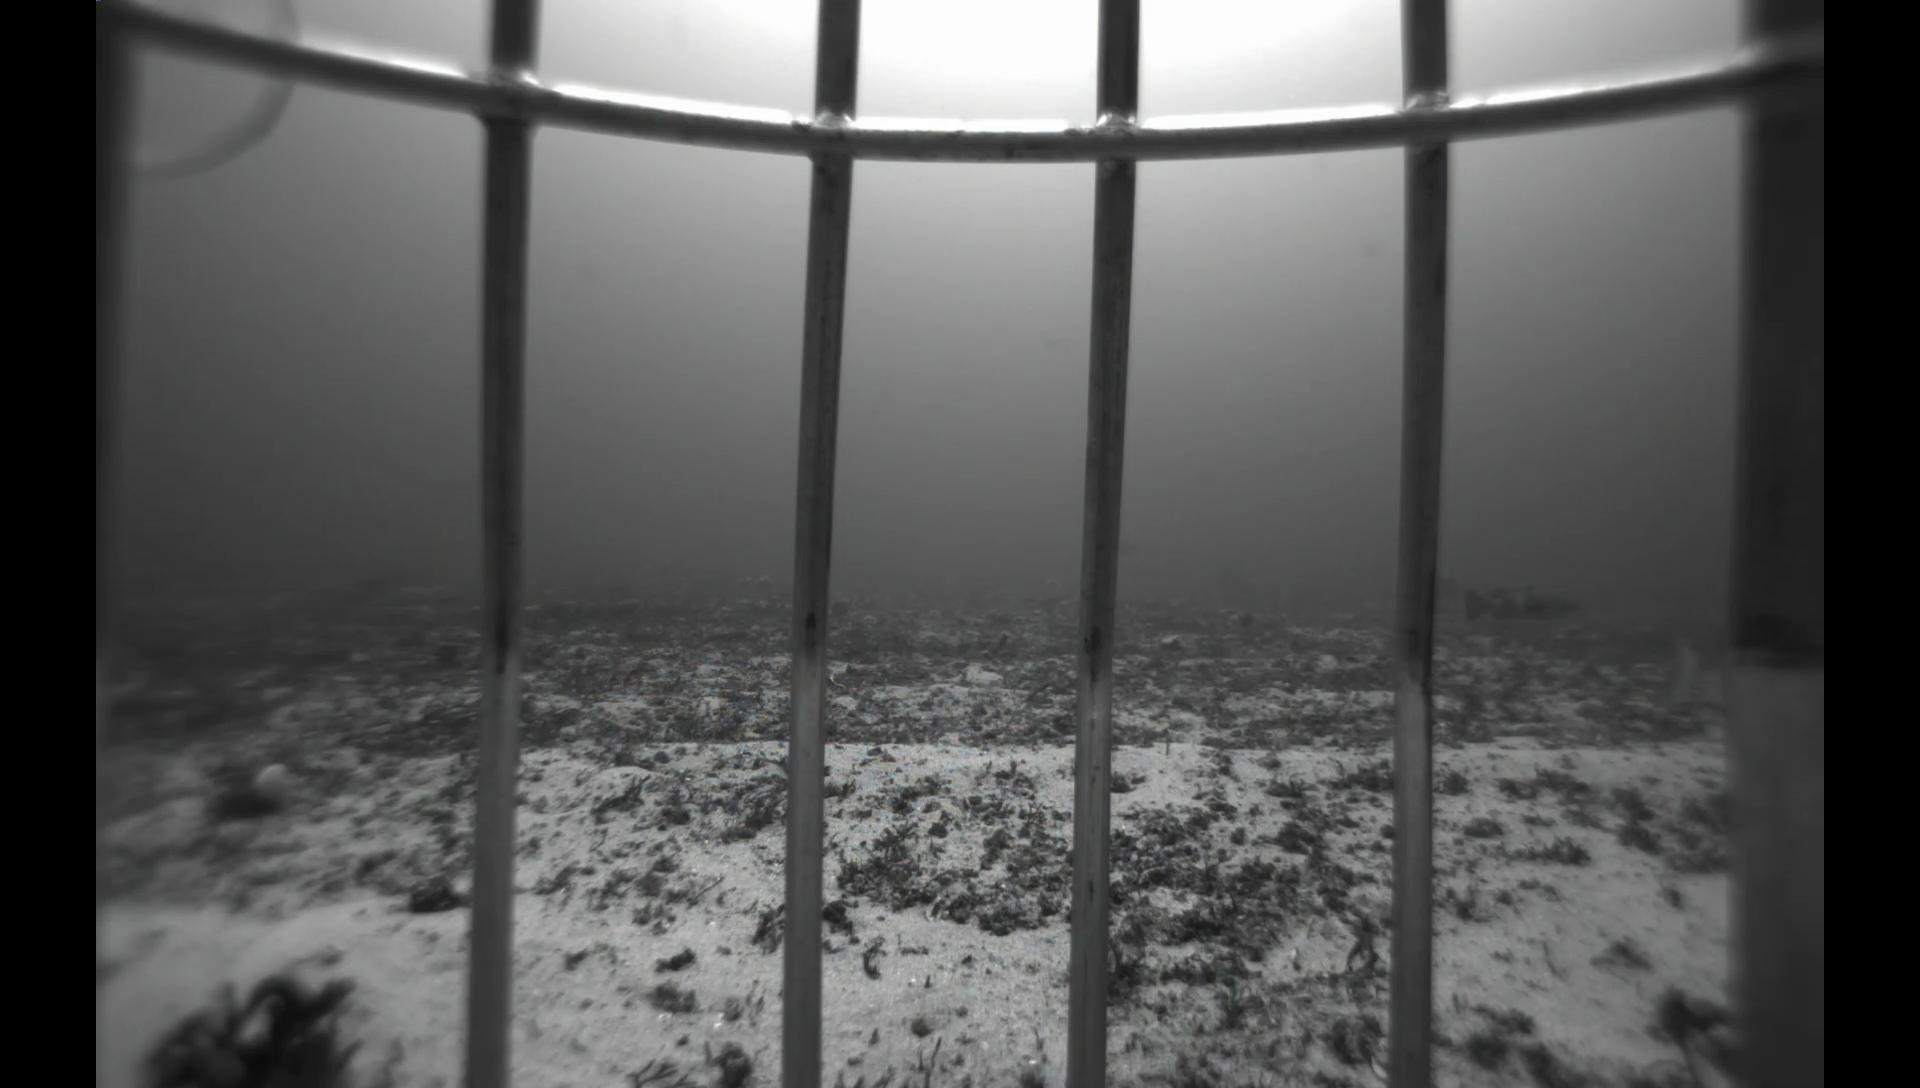CALAMUSPRORIDENS-170210605: (1648, 628, 1725, 720)
EPINEPHELUSMORIO-170021211: (1462, 578, 1586, 630)
PRISTIGENYSALTA-170050401: (597, 591, 655, 625), (825, 595, 855, 622)
